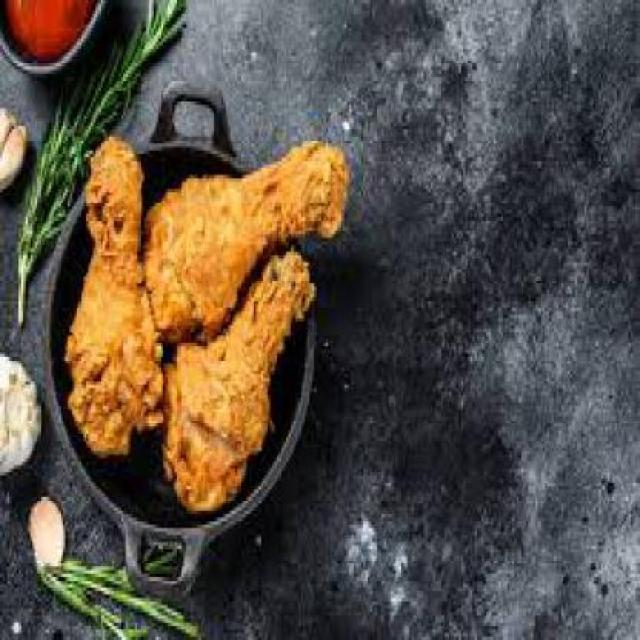Frango: (64, 122, 353, 515)
